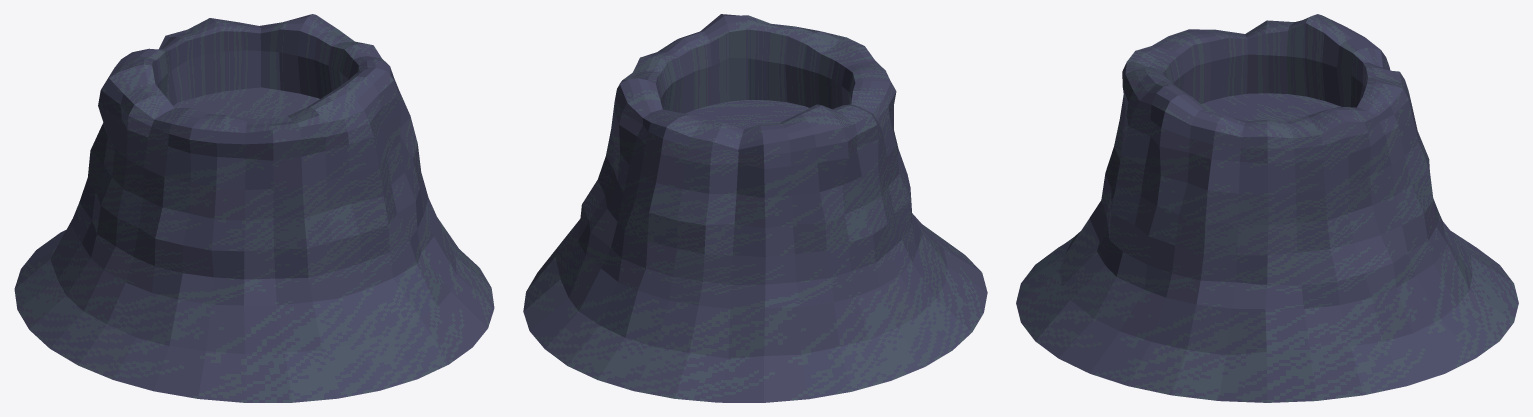
The model's file is Schlot.fbx.
3 views of the same model, side by side, from view 1: azimuth 30°, elevation 25°; view 2: azimuth 150°, elevation 25°; view 3: azimuth 270°, elevation 25° (orthographic). The views are drawn at different scales.
Parts seen in each view (by area): view 1: Cylinder; view 2: Cylinder; view 3: Cylinder.
Boxes of the visible parts, x1,y1,x2,y2 form: Cylinder: (14, 14, 494, 402); Cylinder: (523, 14, 987, 402); Cylinder: (1016, 14, 1518, 402).
Size of the model in its own units: 374 by 214 by 398.
